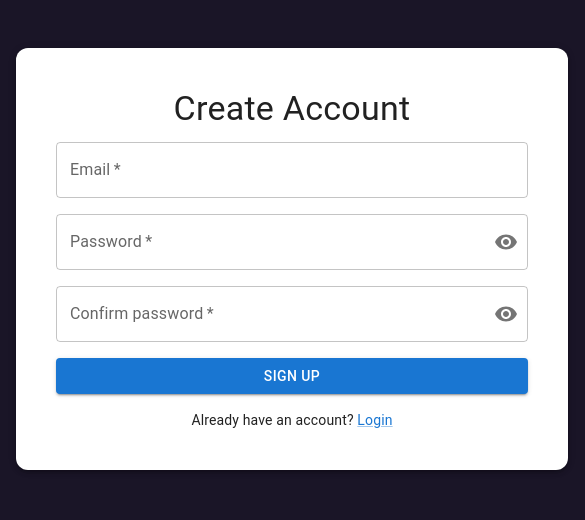
Test: SignupPage › error messages › should show the passwords do not match message when passwords differ
Type "test@test.com" into the field with placeholder "Enter Email" at (292, 170), box x1=56 y1=142 x2=528 y2=198
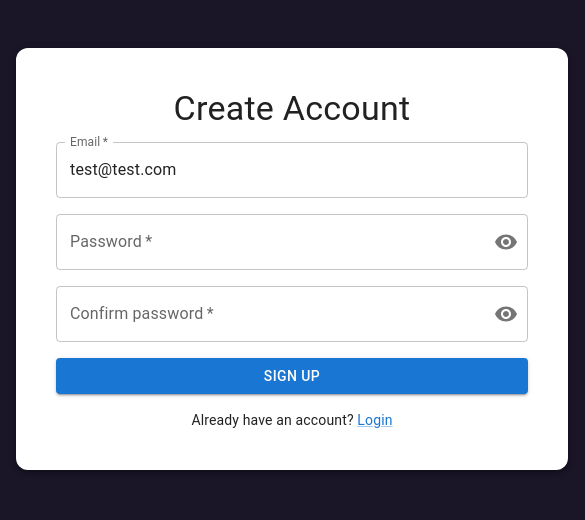
Type "Password123!" into the password field with placeholder "Enter Password" at (267, 242), box x1=56 y1=214 x2=478 y2=270
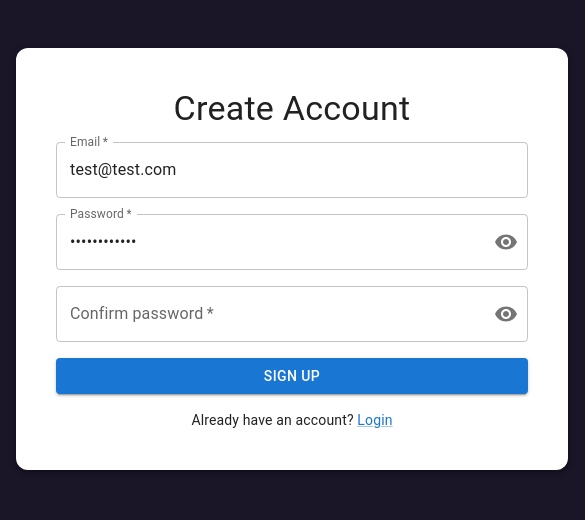
Type "different" into the password field with placeholder "Retype Password" at (267, 314), box x1=56 y1=286 x2=478 y2=342
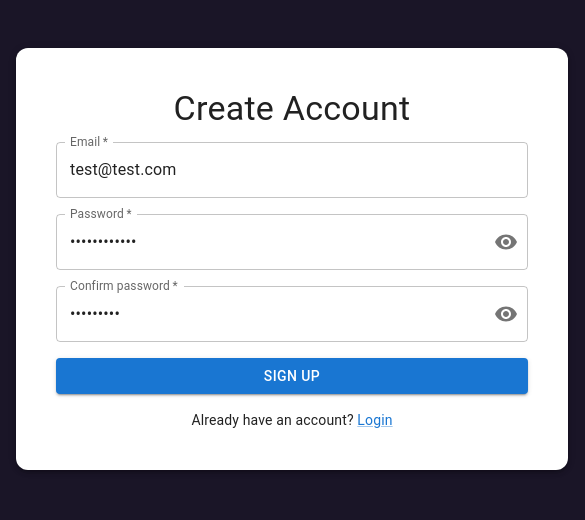
Click the button "Sign up" at (292, 376), box x1=56 y1=358 x2=528 y2=394
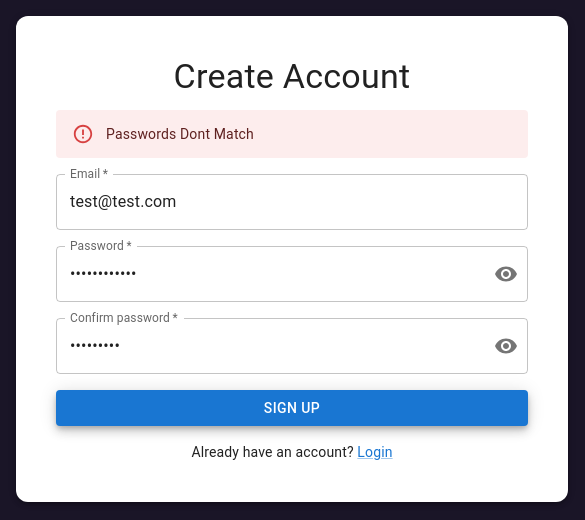
Check: the text "Passwords Dont Match" is shown, box x1=106 y1=126 x2=254 y2=142
